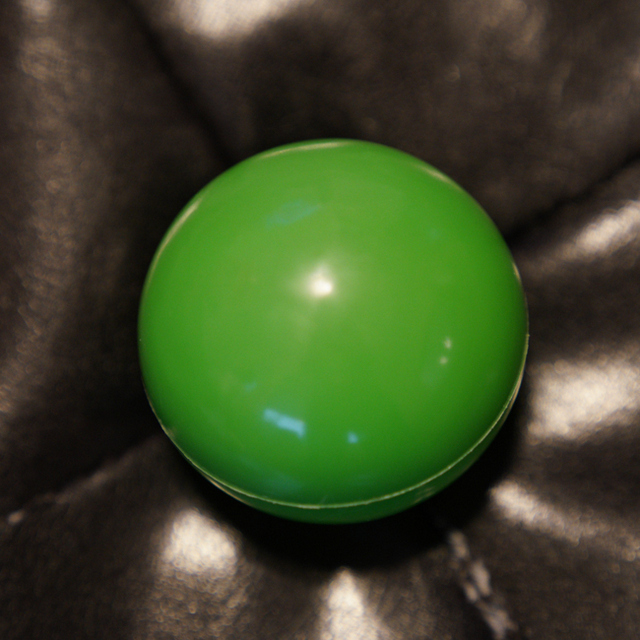Ball: (138, 135, 526, 523)
